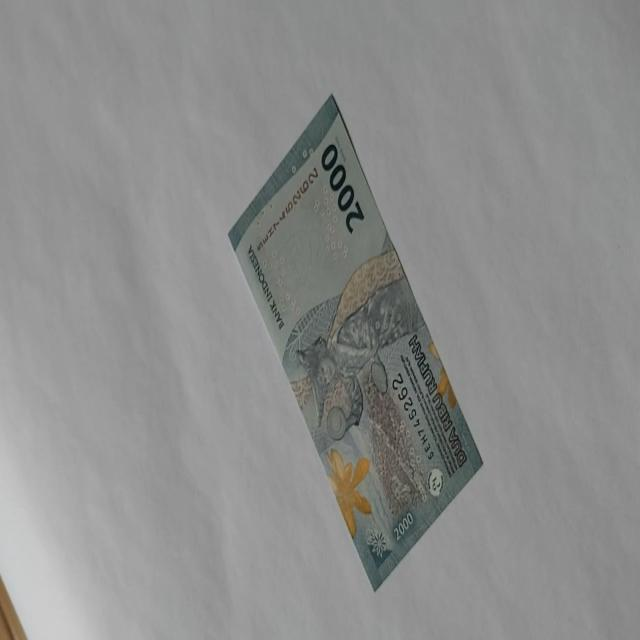dua ribu rupiah: (227, 93, 483, 592), (295, 249, 433, 529)
